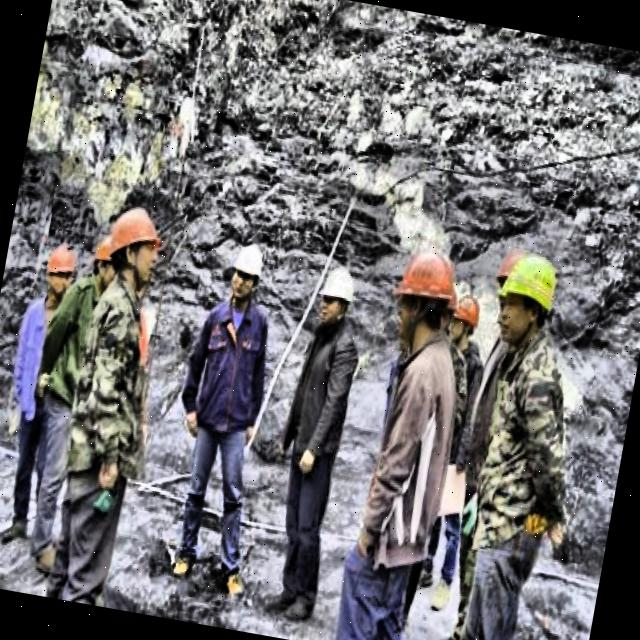helmet: (381, 233, 468, 359), (489, 243, 567, 352), (101, 205, 170, 302), (312, 259, 362, 334), (224, 236, 267, 308), (445, 290, 488, 354), (38, 242, 78, 306), (86, 234, 122, 296)
